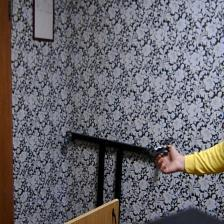drone: (144, 133, 176, 159)
